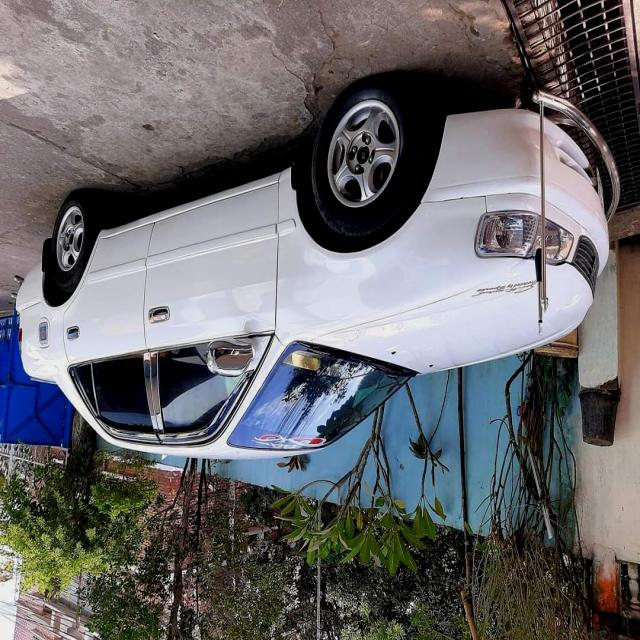white: (28, 113, 620, 471)
